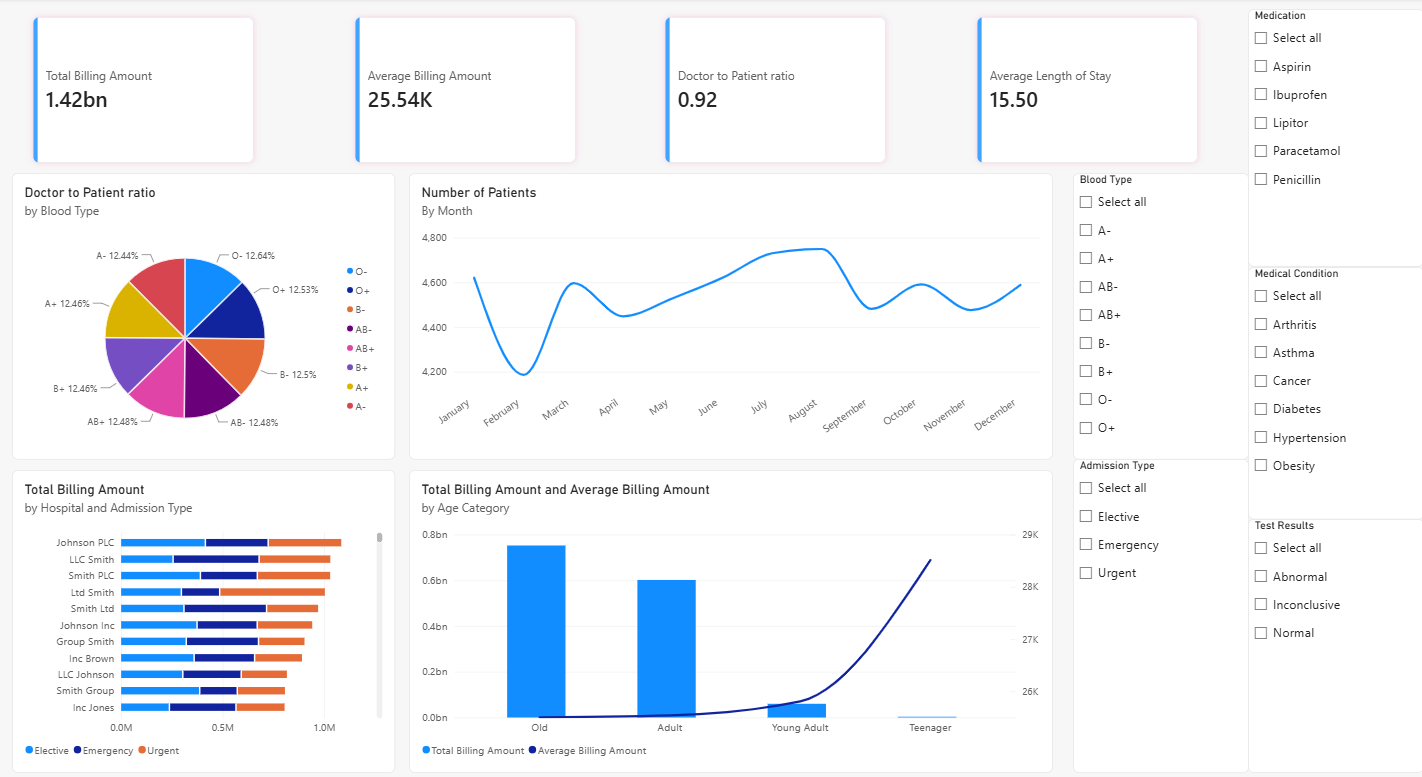

This screenshot's page, from the dashboard's own definition file:
{"tool":"powerbi","page":{"name":"Page 1","canvas":[1920,1080],"ordinal":0},"visuals":[{"type":"barChart","fields":{"Category":["Dim Hospital.Hospital"],"Y":["Fact Healthcare.Total Billing Amount"],"Series":["Dim Patients.Admission Type"]},"box":[18.6,635.8,516.1,408.3],"z":0},{"type":"pieChart","fields":{"Y":["Dim Hospital.Doctor to Patient ratio"],"Category":["Dim Patients.Blood Type"]},"box":[18.6,235.4,516.1,385.7],"z":1000},{"type":"lineChart","title":"Number of Patients","fields":{"Category":["Dim Patients.Date of Admission.Variation.Date Hierarchy.Month"],"Y":["CountNonNull(Dim Patients.Patient ID)"]},"box":[553.3,235.4,867.2,385.7],"z":2000},{"type":"lineStackedColumnComboChart","fields":{"Category":["Dim Patients.Age Category"],"Y":["Fact Healthcare.Total Billing Amount"],"Y2":["Fact Healthcare.Average Billing Amount"]},"box":[553.3,635.8,867.2,408.3],"z":3000},{"type":"slicer","fields":{"Values":["Dim Patients.Blood Type"]},"box":[1447.1,235.4,236.7,385.7],"z":4000},{"type":"slicer","fields":{"Values":["Dim Patients.Medication"]},"box":[1683.8,14.6,236.7,347.1],"z":5000},{"type":"slicer","fields":{"Values":["Dim Patients.Admission Type"]},"box":[1447.1,621.1,236.7,423],"z":6000},{"type":"cardVisual","fields":{"Data":["Fact Healthcare.Total Billing Amount"]},"box":[35.9,14.6,319.2,218.1],"z":7000},{"type":"cardVisual","fields":{"Data":["Fact Healthcare.Average Billing Amount"]},"box":[469.5,14.6,319.2,218.1],"z":8000},{"type":"cardVisual","fields":{"Data":["Dim Hospital.Doctor to Patient ratio"]},"box":[887.1,14.6,319.2,218.1],"z":9000},{"type":"cardVisual","fields":{"Data":["Dim Patients.Average Length of Stay"]},"box":[1307.4,14.6,319.2,218.1],"z":10000},{"type":"slicer","fields":{"Values":["Dim Patients.Test Results"]},"box":[1683.8,702.3,236.7,341.8],"z":11000},{"type":"slicer","fields":{"Values":["Dim Patients.Medical Condition"]},"box":[1683.8,361.8,236.7,340.5],"z":12000}]}

Visuals, with their boxes in screenshot pixels (x1, y1, x2, y2), scaled from the page's 1920x1080 canvas onto the 1422x777 screenshot:
barChart - Dim Hospital.Hospital x Fact Healthcare.Total Billing Amount: (14,457,396,751)
pieChart - Dim Hospital.Doctor to Patient ratio x Dim Patients.Blood Type: (14,169,396,447)
"Number of Patients" lineChart: (410,169,1052,447)
lineStackedColumnComboChart - Dim Patients.Age Category x Fact Healthcare.Total Billing Amount: (410,457,1052,751)
slicer - Dim Patients.Blood Type: (1072,169,1247,447)
slicer - Dim Patients.Medication: (1247,11,1421,260)
slicer - Dim Patients.Admission Type: (1072,447,1247,751)
cardVisual - Fact Healthcare.Total Billing Amount: (27,11,263,167)
cardVisual - Fact Healthcare.Average Billing Amount: (348,11,584,167)
cardVisual - Dim Hospital.Doctor to Patient ratio: (657,11,893,167)
cardVisual - Dim Patients.Average Length of Stay: (968,11,1205,167)
slicer - Dim Patients.Test Results: (1247,505,1421,751)
slicer - Dim Patients.Medical Condition: (1247,260,1421,505)
